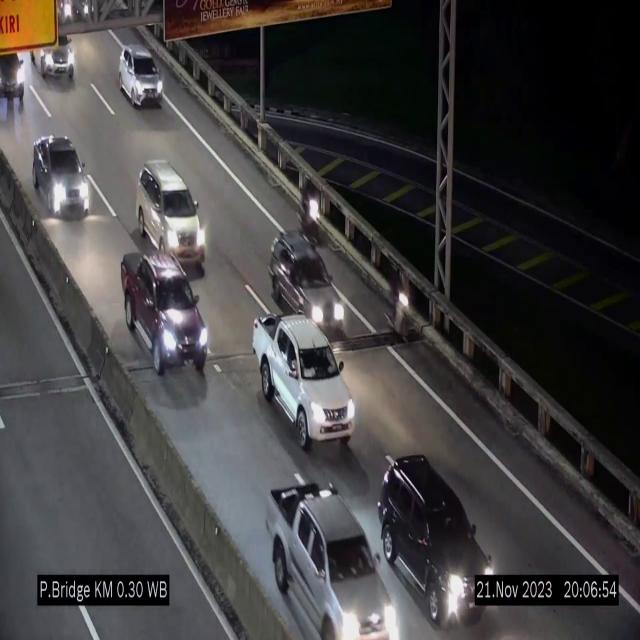Car: (264, 481, 403, 640), (382, 452, 492, 622), (252, 314, 354, 448), (121, 250, 209, 402), (270, 227, 348, 337), (137, 160, 206, 266), (33, 134, 90, 217), (30, 15, 79, 86), (119, 45, 163, 106), (0, 50, 26, 107)
Motorcycle: (389, 267, 413, 352), (301, 178, 325, 245)
